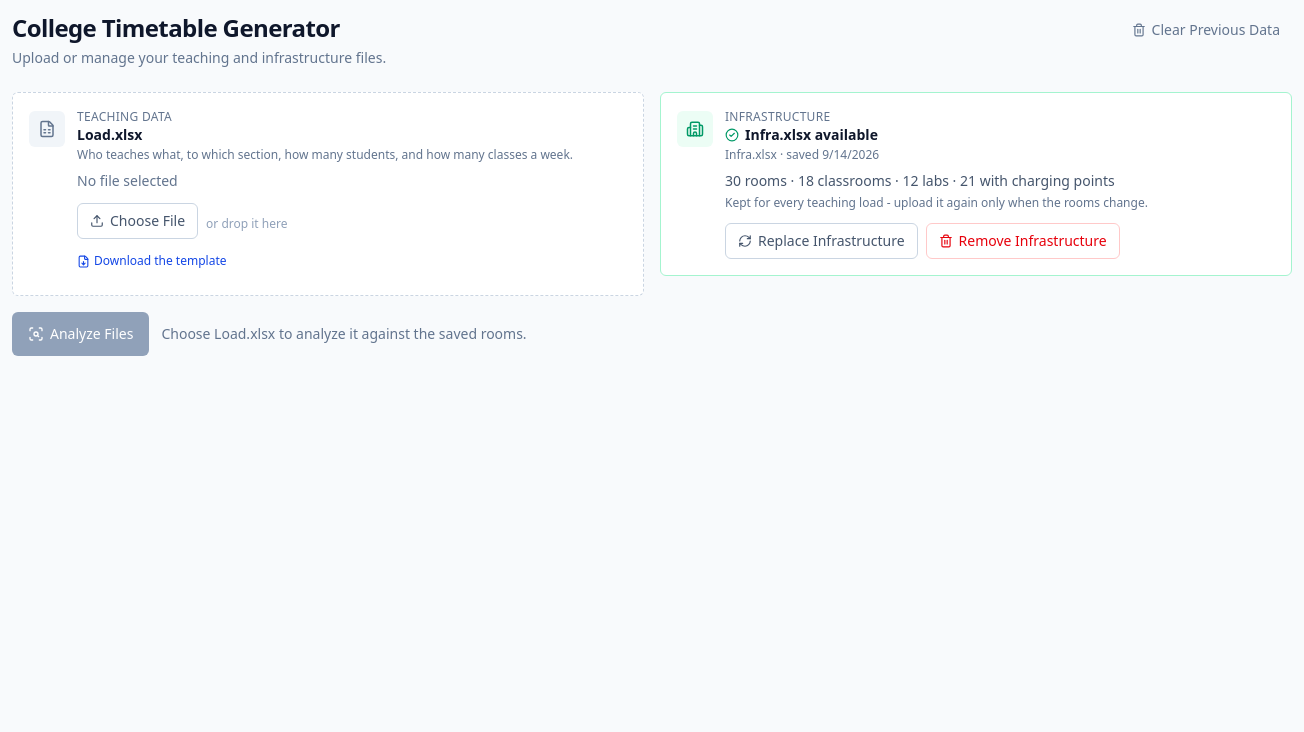
Scenario: the dashboard › Remove Infrastructure opens the clear panel on the rooms
What coordinates should you click on to do the following:
click the button "Remove Infrastructure"
I would click on:
 (1023, 241)
Its box is [926,223,1120,259].
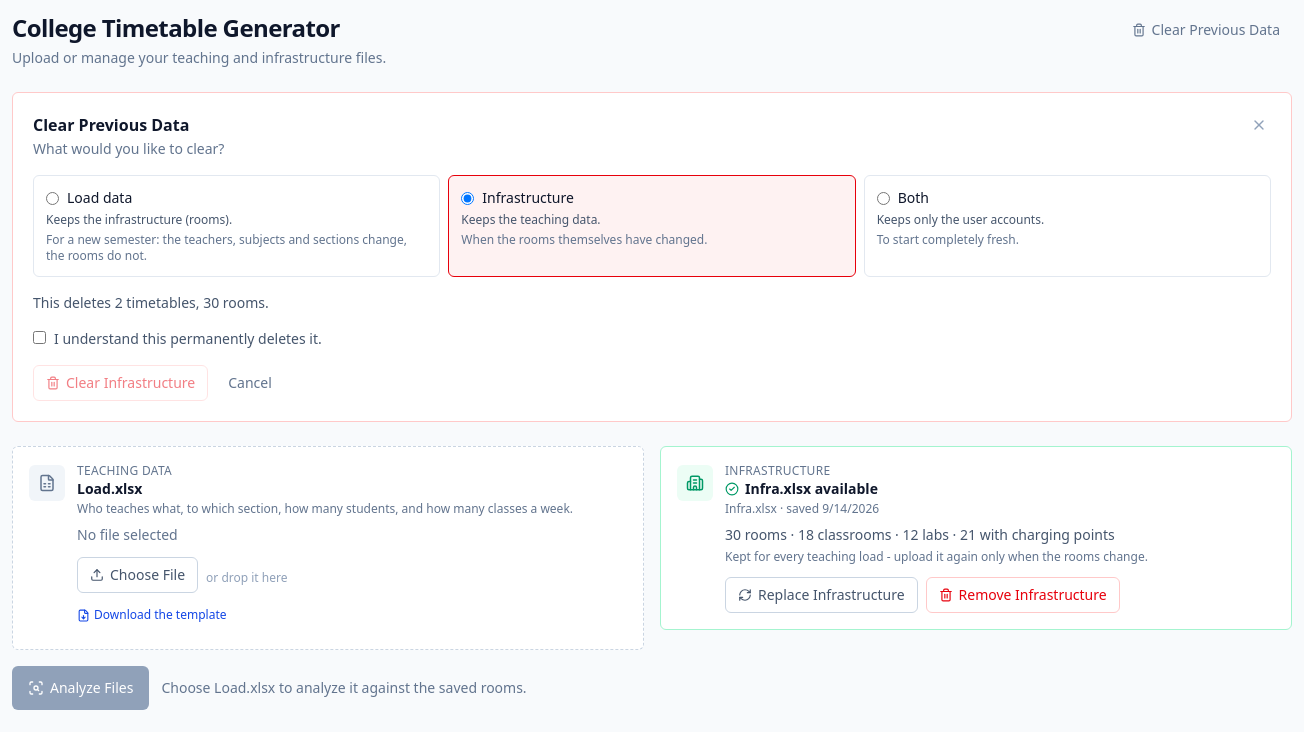
Check: the radio button labelled "Infrastructure" is checked, box [461,192,474,204]
